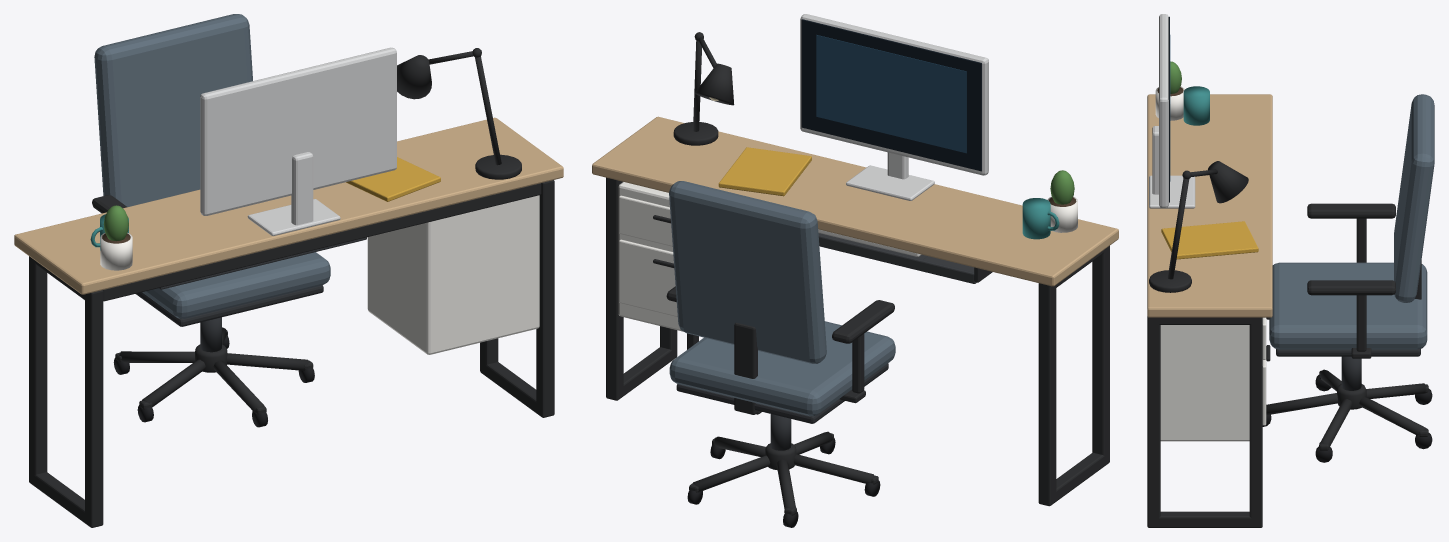
Rendered from computerDesk.glb.
3 views of the same model, side by side, from view 1: azimuth 30°, elevation 25°; view 2: azimuth 150°, elevation 25°; view 3: azimuth 270°, elevation 25° (orthographic). The views are drawn at different scales.
Visible parts, largest first — view 1: computerDesk; view 2: computerDesk, tray; view 3: computerDesk.
Boxes of the visible parts, <box> form: computerDesk: <box>14,14,563,527</box>; computerDesk: <box>592,14,1118,527</box>; tray: <box>818,229,976,283</box>; computerDesk: <box>1147,14,1434,527</box>.
Bounding box in the file's own units: 1.54 × 1.21 × 0.8716.
